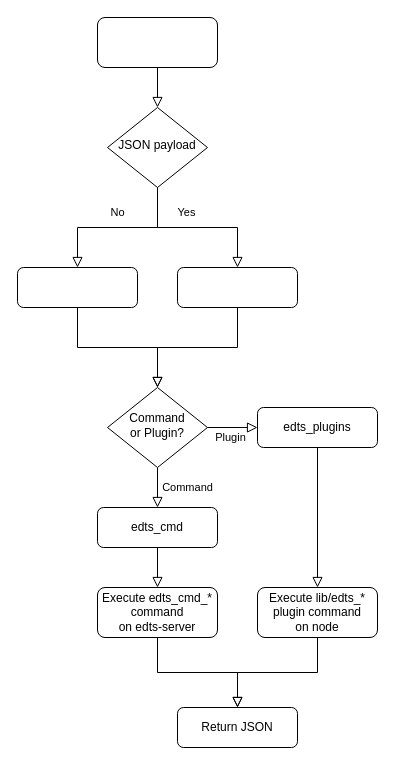
This 395x765 diagram has some shape labels left out. Each missing label, with the box of its shape:
Empty context: (16, 266, 138, 308)
Payload to context: (176, 266, 298, 308)
POST request handled in edts_mochiweb: (96, 16, 218, 68)
